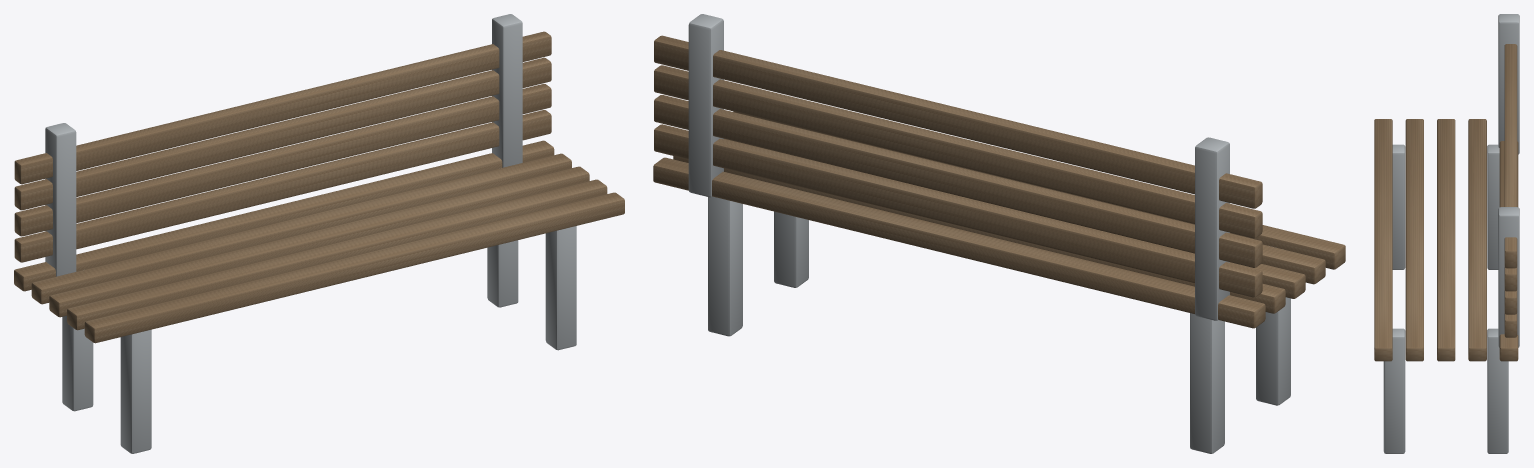
The model's file is bench_public.glb.
3 renders of one model, left to right at view 1: azimuth 30°, elevation 25°; view 2: azimuth 150°, elevation 25°; view 3: azimuth 270°, elevation 25°, orthographic. The views are drawn at different scales.
Visible parts, largest first — view 1: Bench_SeatSlat_1, Bench_BackSlat_3, Bench_BackSlat_2, Bench_BackSlat_4, Bench_BackSlat_1, Bench_SeatSlat_4, Bench_SeatSlat_3, Bench_SeatSlat_2, Bench_SeatSlat_5, Bench_BackPost_L, Bench_BackPost_R, Bench_Leg_1_1 (+3 smaller); view 2: Bench_BackSlat_1, Bench_BackSlat_4, Bench_BackSlat_2, Bench_BackSlat_3, Bench_SeatSlat_5, Bench_BackPost_R, Bench_BackPost_L, Bench_Leg_2_2, Bench_Leg_1_2, Bench_Leg_1_1, Bench_SeatSlat_4, Bench_SeatSlat_1 (+3 smaller); view 3: Bench_SeatSlat_1, Bench_SeatSlat_2, Bench_SeatSlat_3, Bench_SeatSlat_4, Bench_BackSlat_4, Bench_Leg_2_1, Bench_Leg_2_2, Bench_Leg_1_1, Bench_BackPost_R, Bench_BackPost_L, Bench_Leg_1_2, Bench_SeatSlat_5 (+3 smaller).
Part boxes in pixels (<box>): Bench_SeatSlat_1: <box>84,192,624,343</box>; Bench_BackSlat_3: <box>14,57,551,210</box>; Bench_BackSlat_2: <box>14,84,551,236</box>; Bench_BackSlat_4: <box>14,31,551,184</box>; Bench_BackSlat_1: <box>14,110,551,262</box>; Bench_SeatSlat_4: <box>31,153,571,304</box>; Bench_SeatSlat_3: <box>49,166,589,317</box>; Bench_SeatSlat_2: <box>67,179,607,330</box>; Bench_SeatSlat_5: <box>14,140,554,291</box>; Bench_BackPost_L: <box>45,123,76,276</box>; Bench_BackPost_R: <box>492,14,522,167</box>; Bench_Leg_1_1: <box>120,329,151,453</box>; Bench_BackSlat_1: <box>654,124,1262,297</box>; Bench_BackSlat_4: <box>654,35,1262,208</box>; Bench_BackSlat_2: <box>654,95,1262,267</box>; Bench_BackSlat_3: <box>654,65,1262,238</box>; Bench_SeatSlat_5: <box>653,157,1265,328</box>; Bench_BackPost_R: <box>688,14,723,197</box>; Bench_BackPost_L: <box>1195,137,1229,320</box>; Bench_Leg_2_2: <box>708,196,742,336</box>; Bench_Leg_1_2: <box>1190,313,1224,453</box>; Bench_Leg_1_1: <box>1256,297,1290,405</box>; Bench_SeatSlat_4: <box>673,156,1285,313</box>; Bench_SeatSlat_1: <box>733,111,1345,269</box>; Bench_SeatSlat_1: <box>1374,119,1392,361</box>; Bench_SeatSlat_2: <box>1405,119,1423,361</box>; Bench_SeatSlat_3: <box>1437,119,1455,361</box>; Bench_SeatSlat_4: <box>1468,119,1486,361</box>; Bench_BackSlat_4: <box>1504,44,1517,268</box>; Bench_Leg_2_1: <box>1383,328,1405,453</box>; Bench_Leg_2_2: <box>1487,328,1508,453</box>; Bench_Leg_1_1: <box>1392,144,1405,269</box>; Bench_BackPost_R: <box>1498,207,1519,347</box>; Bench_BackPost_L: <box>1498,14,1519,154</box>; Bench_Leg_1_2: <box>1487,144,1499,269</box>; Bench_SeatSlat_5: <box>1499,141,1518,361</box>.
Size of what is drawn, in the model's own units: 1.65 by 0.817 by 0.4413.
Materials: 2 (1 with a texture image).
